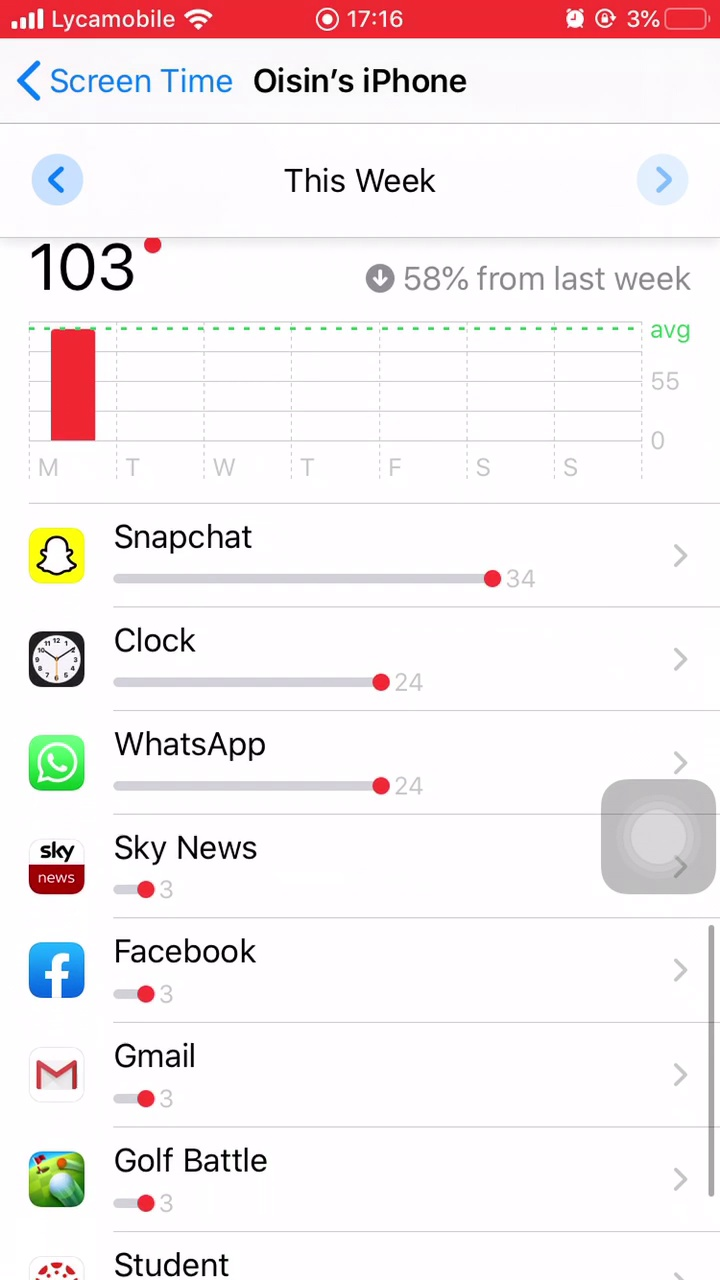not_app: (20, 505, 581, 610), (18, 613, 490, 716), (20, 717, 507, 814), (23, 816, 373, 922), (20, 925, 356, 1024), (20, 1025, 329, 1127), (21, 1133, 348, 1227)
week: (268, 152, 442, 205)
